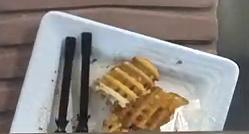fries: (94, 56, 188, 132)
